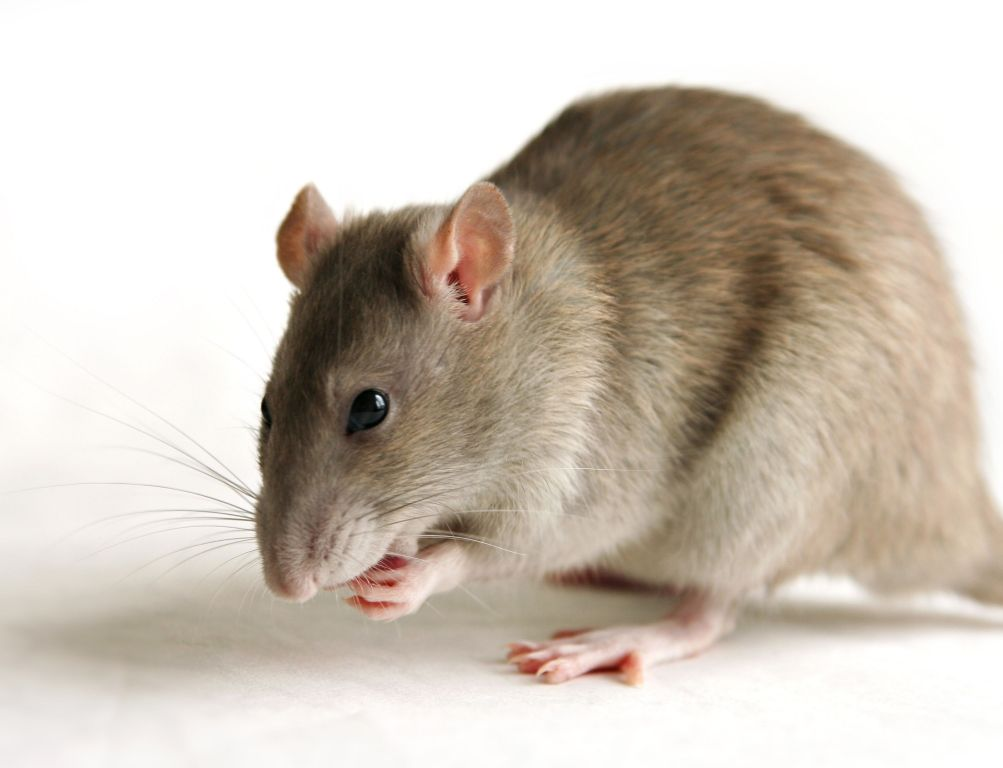rat: (198, 65, 1003, 696)
